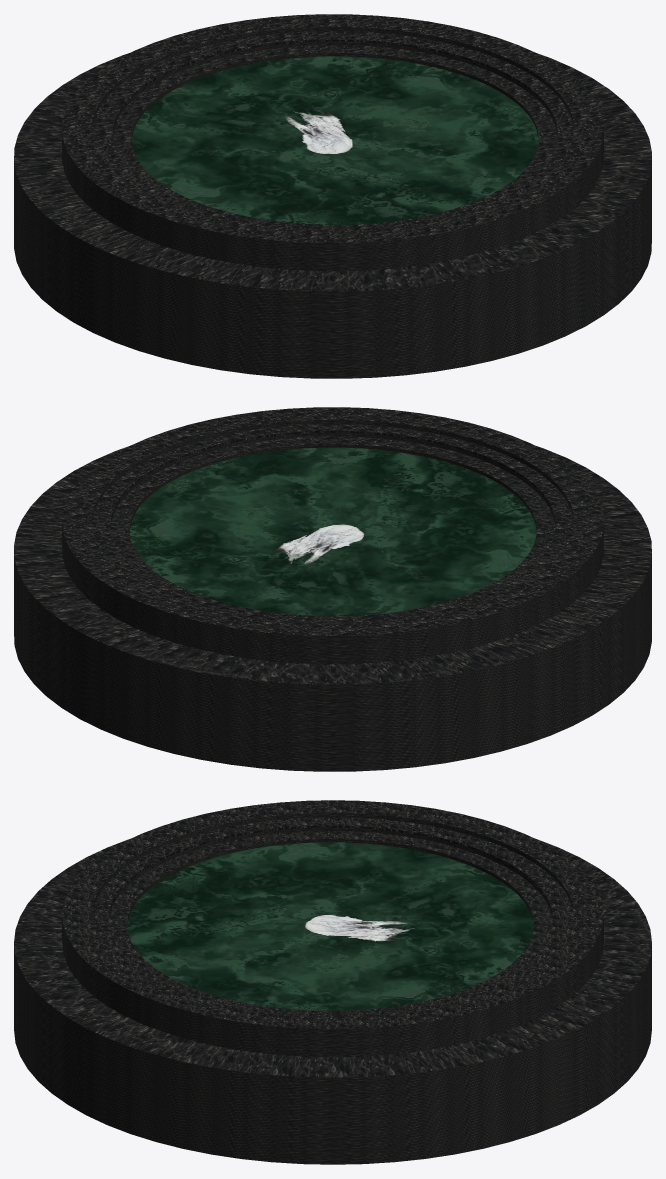
File: platform-draco-transformed.glb
3 views of the same model, one above another, from view 1: azimuth 30°, elevation 25°; view 2: azimuth 150°, elevation 25°; view 3: azimuth 270°, elevation 25° (orthographic).
Visible parts, largest first — view 1: Floor; view 2: Floor; view 3: Floor.
Boxes of the visible parts, x1,y1,x2,y2 form: Floor: (14,14,651,378); Floor: (14,407,651,771); Floor: (14,800,651,1164).
Size of the model in its own units: 17.51 by 3.49 by 17.51.
2 materials, 2 textured.
